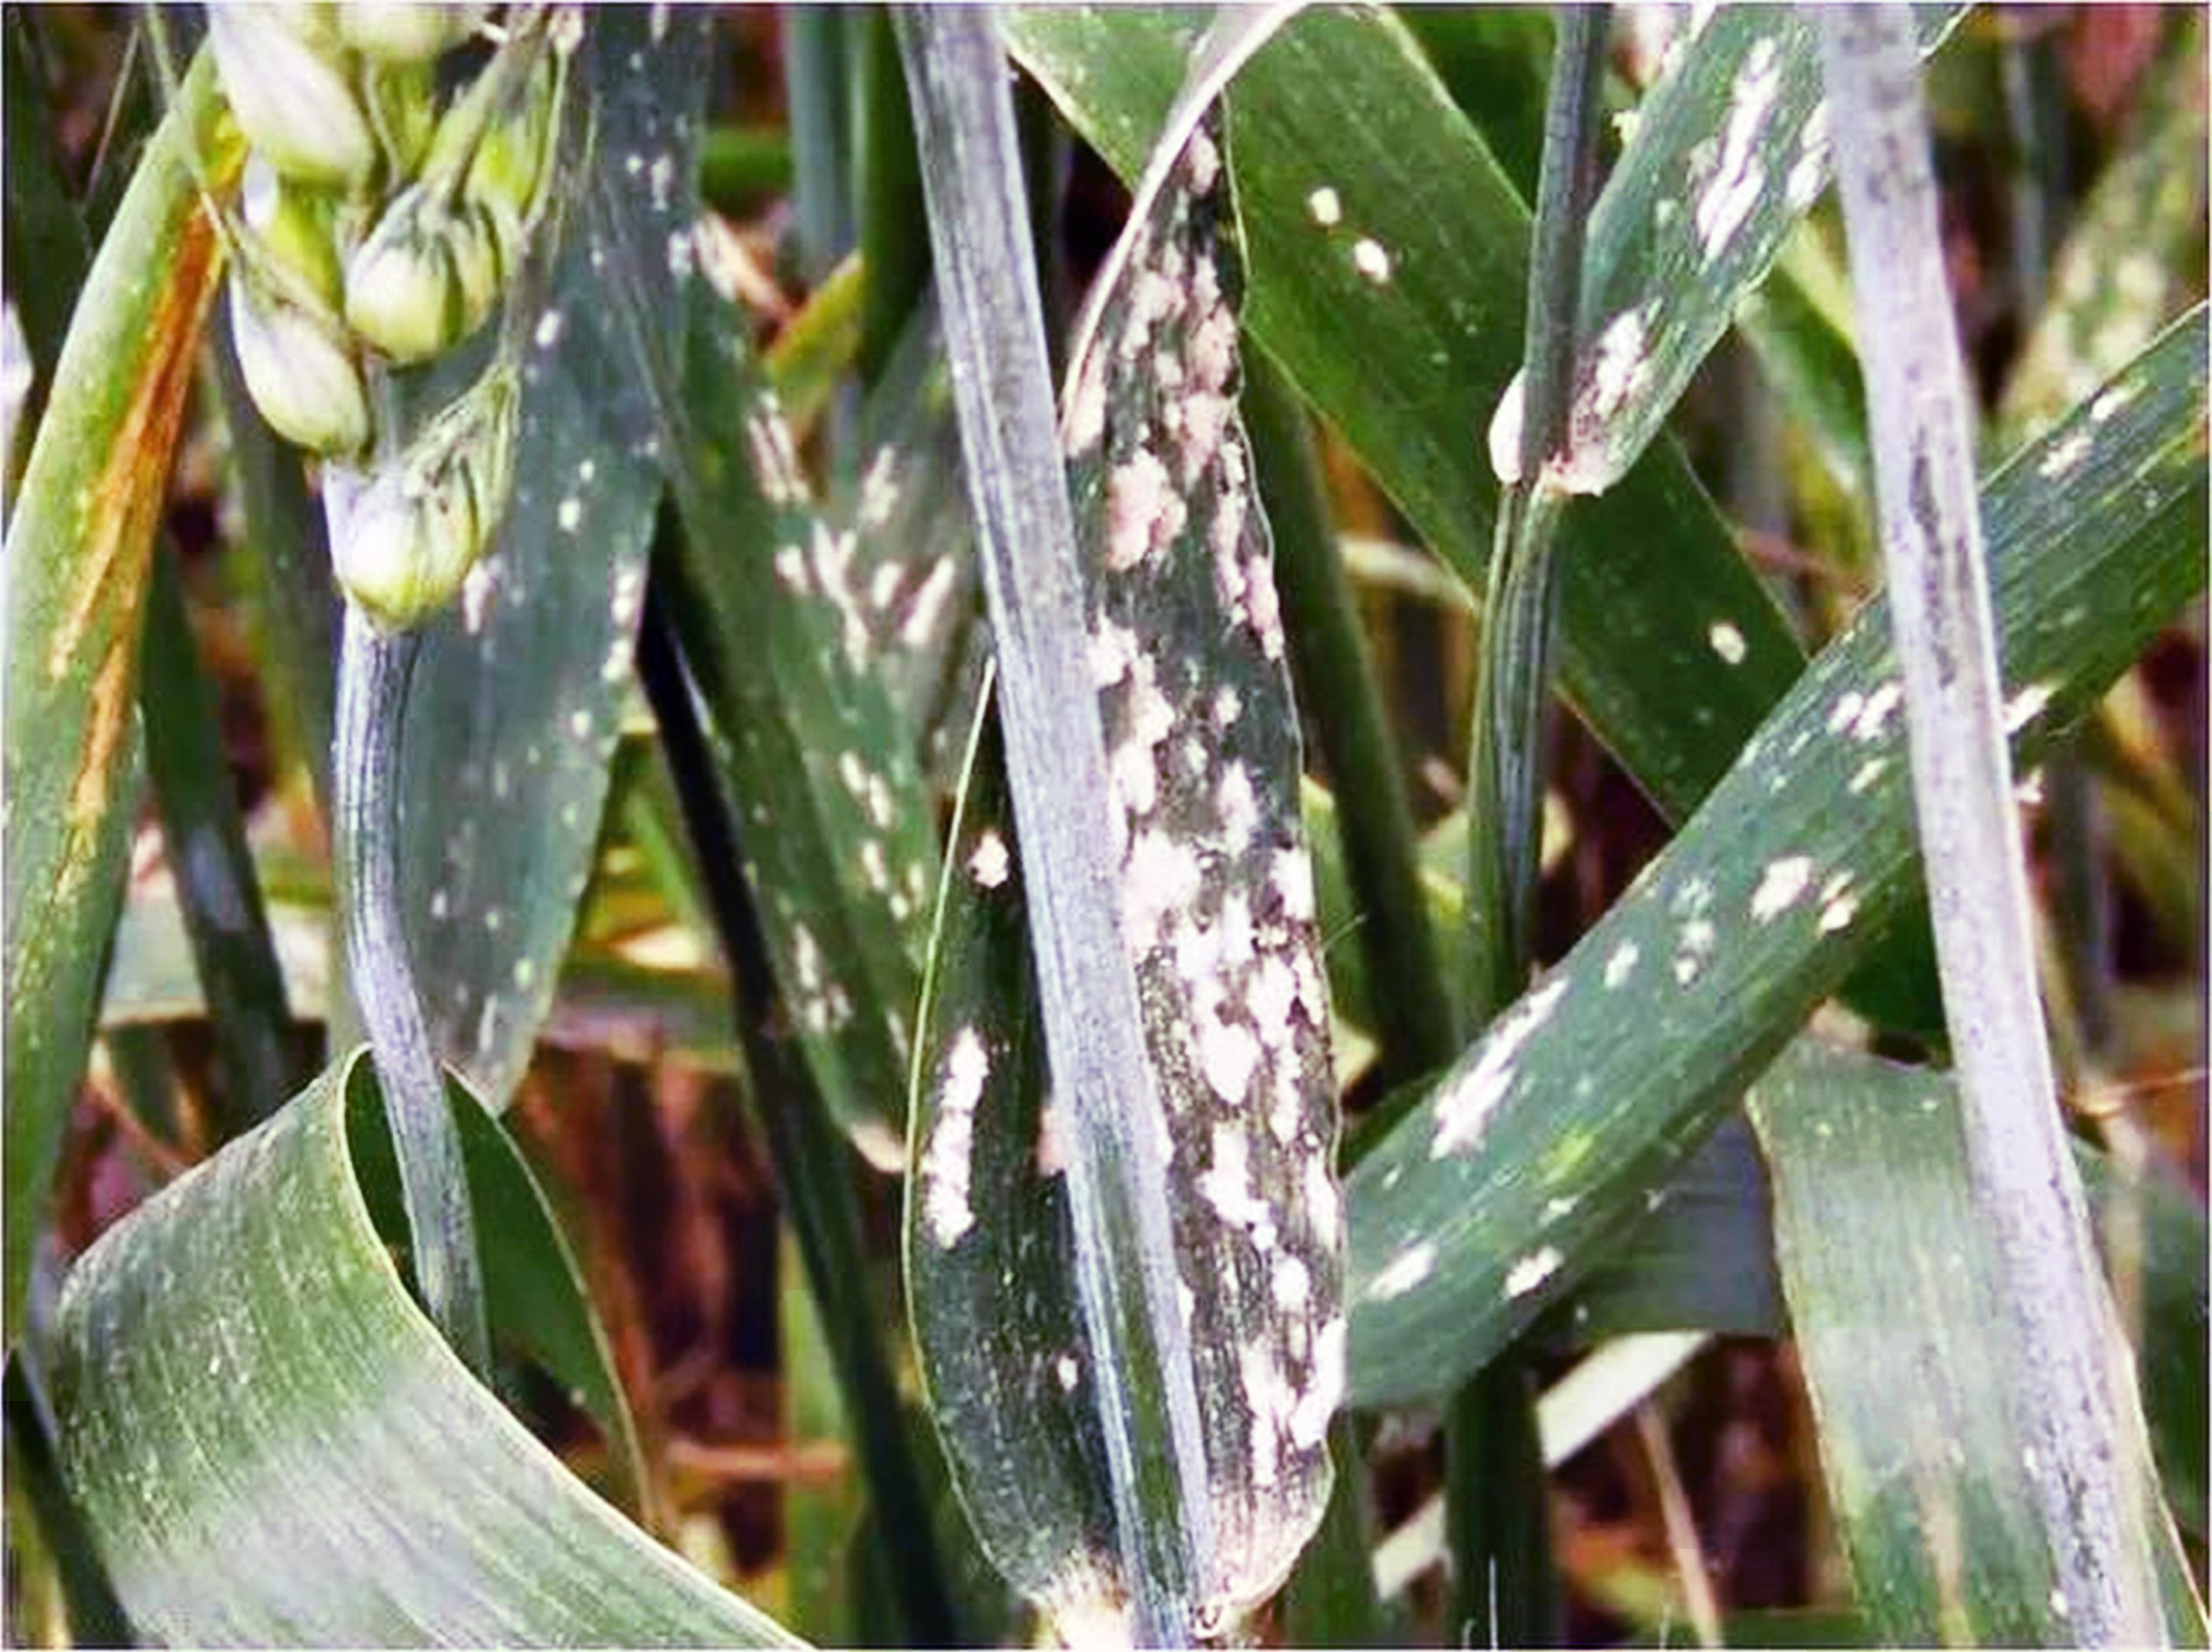Powdery Mildew: (972, 285, 1430, 1501)
